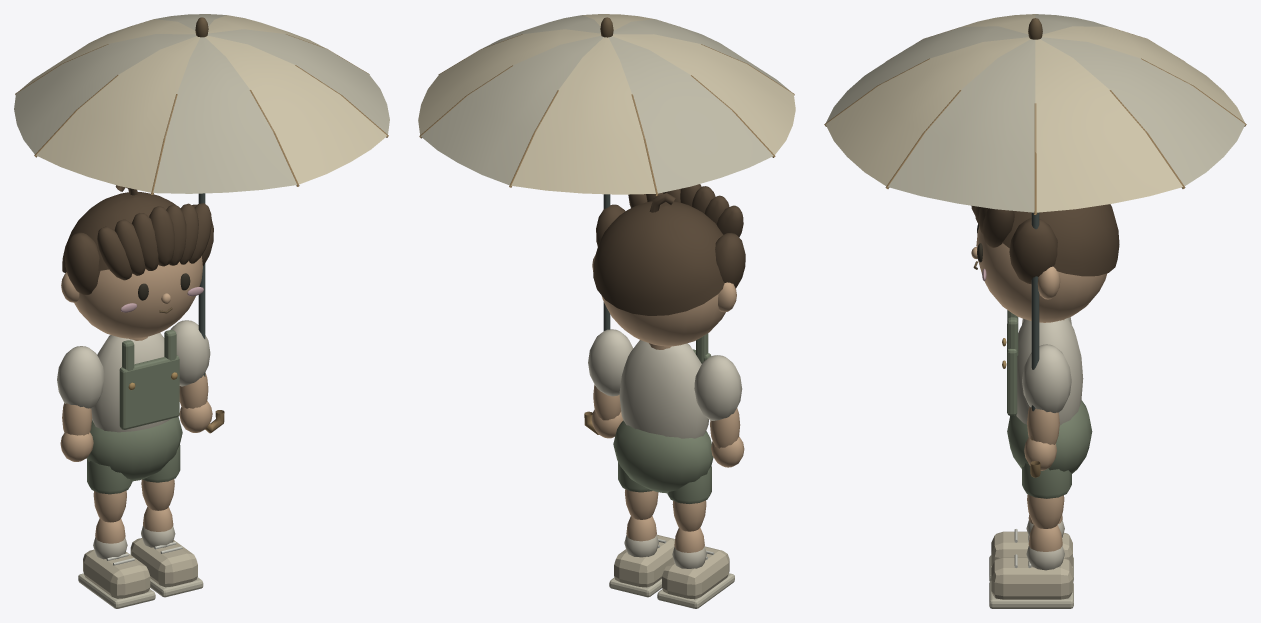
The model's file is visitor-umbrella.glb.
The picture shows the model from 3 angles, left to right: view 1: azimuth 30°, elevation 25°; view 2: azimuth 150°, elevation 25°; view 3: azimuth 270°, elevation 25°; orthographic projection. The views are drawn at different scales.
Parts seen in each view (by area): view 1: Outfit_Umbrella__RT_ExportPalette_0.720_0.000_umbrella, HeadPivot__RT_ExportPalette_0.720_0.000, BodyPivot__RT_ExportPalette_0.720_0.000, Knee_L__RT_ExportPalette_0.720_0.000, Knee_R__RT_ExportPalette_0.720_0.000, Sleeve_L, Leg_L__RT_ExportPalette_0.720_0.000, Sleeve_R, Arm_L__RT_ExportPalette_0.720_0.000, Arm_R__RT_ExportPalette_0.720_0.000, Leg_R__RT_ExportPalette_0.720_0.000; view 2: Outfit_Umbrella__RT_ExportPalette_0.720_0.000_umbrella, HeadPivot__RT_ExportPalette_0.720_0.000, BodyPivot__RT_ExportPalette_0.720_0.000, Knee_L__RT_ExportPalette_0.720_0.000, Knee_R__RT_ExportPalette_0.720_0.000, Sleeve_L, Sleeve_R, Leg_L__RT_ExportPalette_0.720_0.000, Arm_L__RT_ExportPalette_0.720_0.000, Arm_R__RT_ExportPalette_0.720_0.000, Leg_R__RT_ExportPalette_0.720_0.000; view 3: Outfit_Umbrella__RT_ExportPalette_0.720_0.000_umbrella, HeadPivot__RT_ExportPalette_0.720_0.000, BodyPivot__RT_ExportPalette_0.720_0.000, Knee_R__RT_ExportPalette_0.720_0.000, Sleeve_R, Leg_R__RT_ExportPalette_0.720_0.000, Arm_R__RT_ExportPalette_0.720_0.000, Knee_L__RT_ExportPalette_0.720_0.000.
Boxes of the visible parts, x1,y1,x2,y2 form: Outfit_Umbrella__RT_ExportPalette_0.720_0.000_umbrella: (14, 14, 389, 433); HeadPivot__RT_ExportPalette_0.720_0.000: (61, 185, 213, 338); BodyPivot__RT_ExportPalette_0.720_0.000: (86, 330, 182, 481); Knee_L__RT_ExportPalette_0.720_0.000: (78, 518, 155, 608); Knee_R__RT_ExportPalette_0.720_0.000: (130, 507, 203, 597); Sleeve_L: (57, 346, 104, 408); Leg_L__RT_ExportPalette_0.720_0.000: (87, 459, 132, 522); Sleeve_R: (170, 320, 210, 386); Arm_L__RT_ExportPalette_0.720_0.000: (60, 403, 93, 461); Arm_R__RT_ExportPalette_0.720_0.000: (179, 372, 212, 432); Leg_R__RT_ExportPalette_0.720_0.000: (141, 445, 180, 510); Outfit_Umbrella__RT_ExportPalette_0.720_0.000_umbrella: (418, 14, 795, 434); HeadPivot__RT_ExportPalette_0.720_0.000: (592, 184, 745, 346); BodyPivot__RT_ExportPalette_0.720_0.000: (613, 333, 713, 493); Knee_L__RT_ExportPalette_0.720_0.000: (657, 527, 734, 608); Knee_R__RT_ExportPalette_0.720_0.000: (609, 516, 674, 597); Sleeve_L: (694, 355, 742, 420); Sleeve_R: (588, 329, 633, 396); Leg_L__RT_ExportPalette_0.720_0.000: (667, 466, 711, 531); Arm_L__RT_ExportPalette_0.720_0.000: (710, 408, 744, 467); Arm_R__RT_ExportPalette_0.720_0.000: (591, 384, 623, 438); Leg_R__RT_ExportPalette_0.720_0.000: (618, 462, 658, 519); Outfit_Umbrella__RT_ExportPalette_0.720_0.000_umbrella: (824, 14, 1246, 477); HeadPivot__RT_ExportPalette_0.720_0.000: (971, 204, 1119, 322); BodyPivot__RT_ExportPalette_0.720_0.000: (1002, 310, 1092, 473); Knee_R__RT_ExportPalette_0.720_0.000: (989, 525, 1073, 608); Sleeve_R: (1022, 344, 1071, 412); Leg_R__RT_ExportPalette_0.720_0.000: (1022, 463, 1071, 528); Arm_R__RT_ExportPalette_0.720_0.000: (1024, 406, 1059, 470); Knee_L__RT_ExportPalette_0.720_0.000: (989, 514, 1073, 581).
Size of the model in its own units: 0.7881 by 1.24 by 0.7881.
